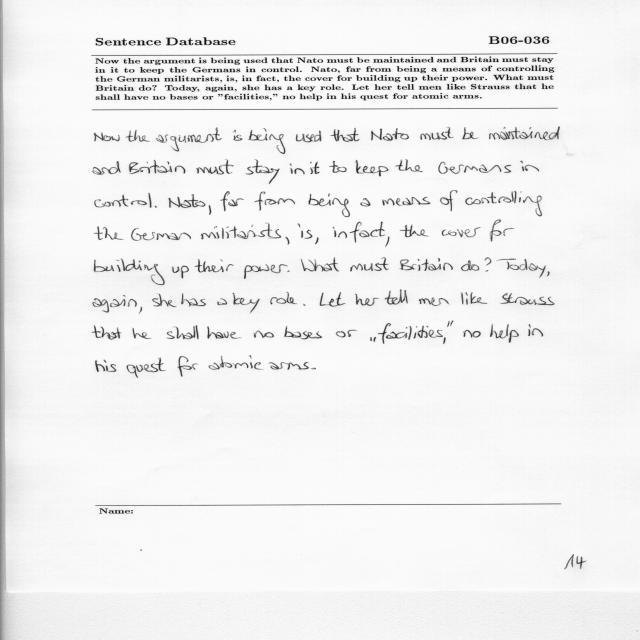word: (465, 191, 542, 216), (94, 259, 165, 285), (156, 128, 222, 152), (378, 323, 446, 344), (201, 223, 281, 240), (309, 194, 350, 218), (248, 128, 285, 154), (498, 258, 546, 278), (489, 127, 560, 140), (439, 162, 512, 174), (95, 193, 152, 208), (246, 159, 280, 184), (129, 160, 186, 174), (131, 228, 191, 241), (127, 358, 166, 378), (209, 355, 261, 370), (254, 192, 295, 211), (349, 222, 385, 243), (93, 295, 137, 312), (399, 258, 453, 271), (244, 264, 288, 279), (500, 293, 555, 305), (232, 293, 260, 313), (490, 324, 519, 343), (195, 259, 234, 273), (355, 160, 389, 176), (196, 160, 234, 174), (168, 194, 206, 208), (301, 258, 339, 272), (350, 258, 388, 272), (491, 220, 515, 242), (371, 128, 409, 141), (284, 326, 322, 339), (220, 192, 244, 212), (167, 326, 199, 340), (208, 326, 242, 339), (177, 356, 198, 377), (382, 197, 430, 206), (420, 127, 453, 140), (93, 325, 121, 340), (331, 128, 360, 142), (94, 226, 123, 240), (93, 161, 121, 175), (442, 227, 481, 237), (320, 292, 346, 307), (395, 159, 423, 172), (440, 191, 457, 212), (181, 293, 206, 307), (385, 290, 408, 305), (461, 292, 487, 305), (400, 225, 428, 237), (270, 292, 297, 304), (269, 362, 309, 370), (152, 294, 176, 307), (355, 293, 379, 306), (296, 131, 321, 143), (126, 130, 150, 142), (96, 359, 117, 372), (419, 297, 449, 306), (298, 223, 313, 239), (94, 133, 120, 142), (172, 266, 189, 279), (329, 161, 347, 173), (520, 161, 539, 172), (133, 328, 152, 339), (461, 260, 479, 271), (528, 324, 543, 337), (462, 128, 478, 140), (290, 164, 305, 175), (333, 227, 347, 238), (253, 331, 274, 338), (336, 330, 357, 337), (463, 330, 481, 338), (310, 162, 319, 174), (234, 130, 243, 141), (360, 198, 371, 207), (485, 258, 492, 272), (217, 299, 227, 305), (386, 236, 390, 247), (285, 237, 290, 245), (370, 337, 376, 342), (315, 238, 319, 245), (209, 205, 211, 215), (139, 307, 142, 313), (451, 321, 454, 327), (547, 271, 550, 276), (448, 321, 450, 327), (287, 270, 290, 272), (303, 304, 306, 306), (311, 368, 316, 369), (155, 206, 157, 208)
